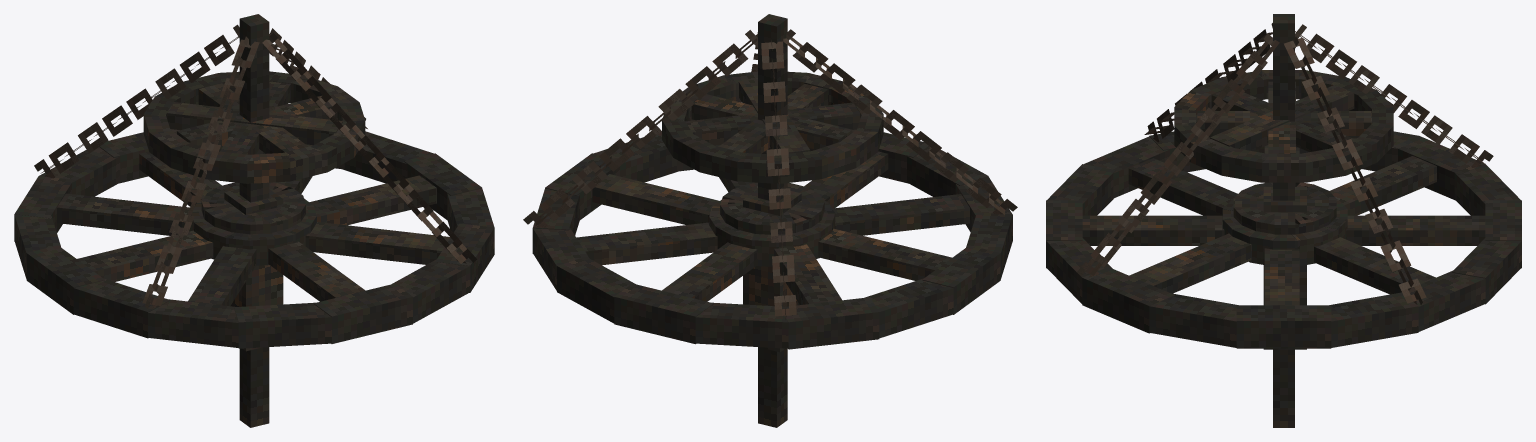
Rendered from goblin_chandelier.obj.
3 views of the same model, side by side, from view 1: azimuth 30°, elevation 25°; view 2: azimuth 150°, elevation 25°; view 3: azimuth 270°, elevation 25° (orthographic).
Visible parts, largest first — view 1: cube, hexadecagon; view 2: cube, hexadecagon; view 3: cube, hexadecagon.
Part boxes in pixels (bbox=[...]): cube: bbox=[34, 14, 476, 427]; hexadecagon: bbox=[14, 71, 494, 348]; cube: bbox=[523, 14, 1017, 427]; hexadecagon: bbox=[532, 71, 1012, 349]; cube: bbox=[1077, 14, 1493, 427]; hexadecagon: bbox=[1046, 70, 1521, 348].
Bounding box in the file's own units: 4.06 × 3.81 × 4.06.
